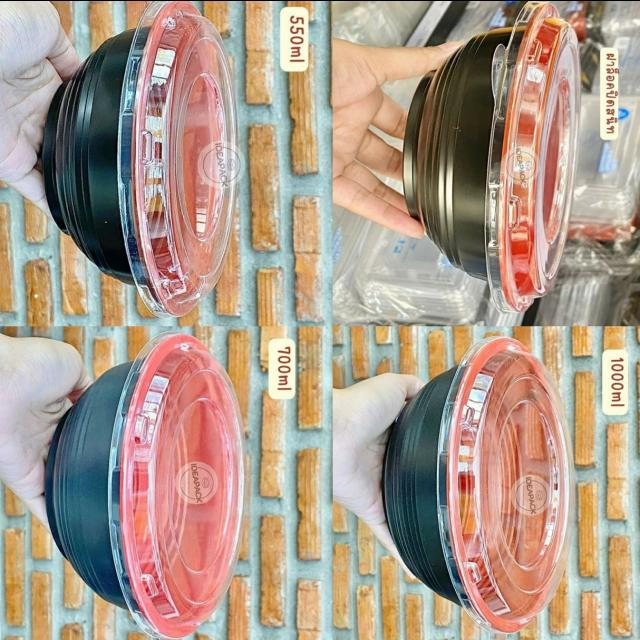plastik: (41, 0, 240, 316), (45, 332, 244, 640), (383, 336, 572, 640), (404, 1, 579, 311)
